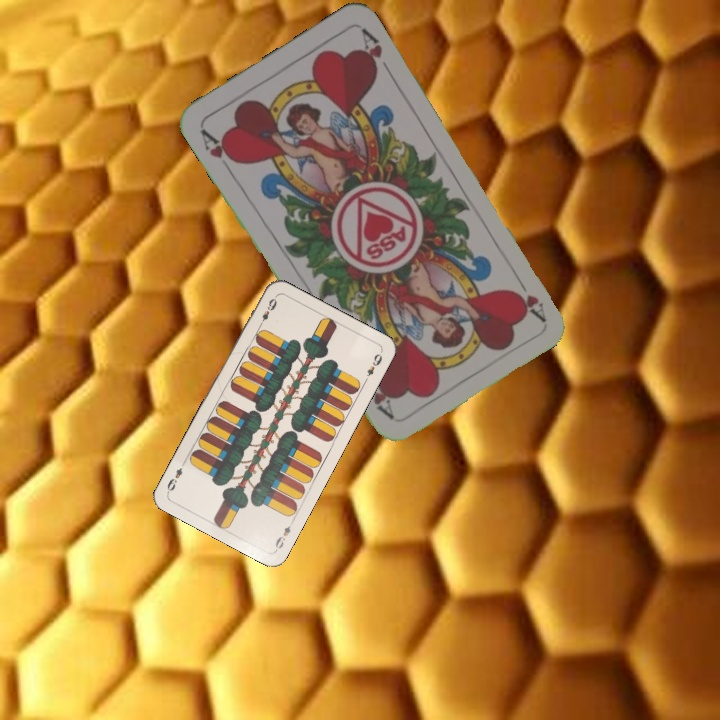E9: (254, 293, 280, 330), (271, 516, 297, 553)
HA: (196, 124, 240, 177), (509, 270, 549, 324)
